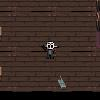Jason: (40, 41, 59, 59)
Win: (51, 74, 72, 91)
